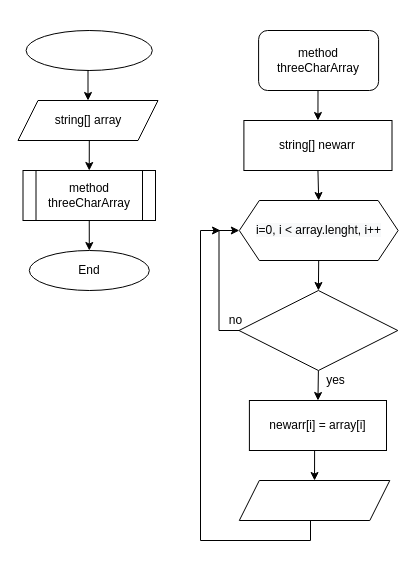
Image size: 416x566. Some labels were removed from this diagram. The shapes that lost their labels are listed below. From the top down, each one's box as (x1, y1, x2, y2) in pixels, then its label:
(25, 30, 152, 70): Begin
(238, 290, 398, 370): array [i].lenght <= 3
(238, 480, 390, 520): Print newarr[i]
